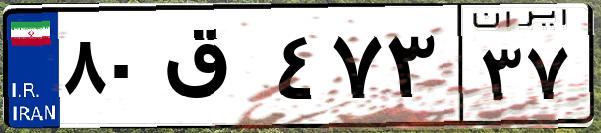0: (110, 28, 158, 98)
3: (385, 28, 445, 110), (475, 38, 525, 113)
4: (270, 28, 330, 110)
7: (330, 28, 385, 110), (525, 38, 570, 115)
8: (57, 26, 110, 100)
ق: (158, 20, 270, 120)
